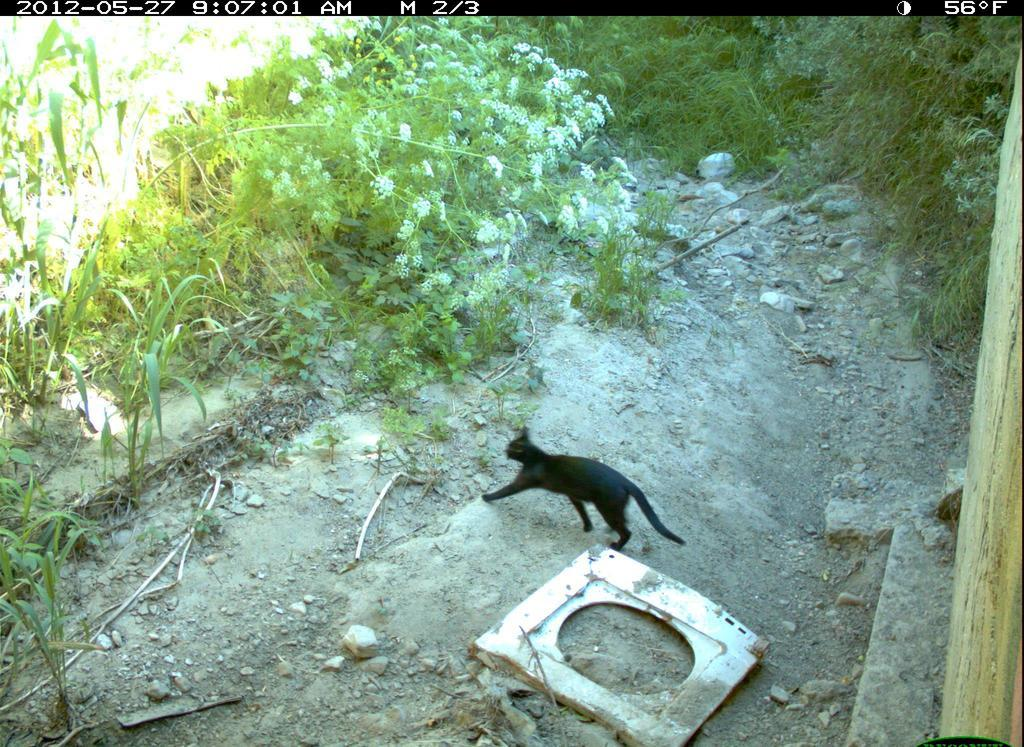cat: (477, 417, 692, 565)
